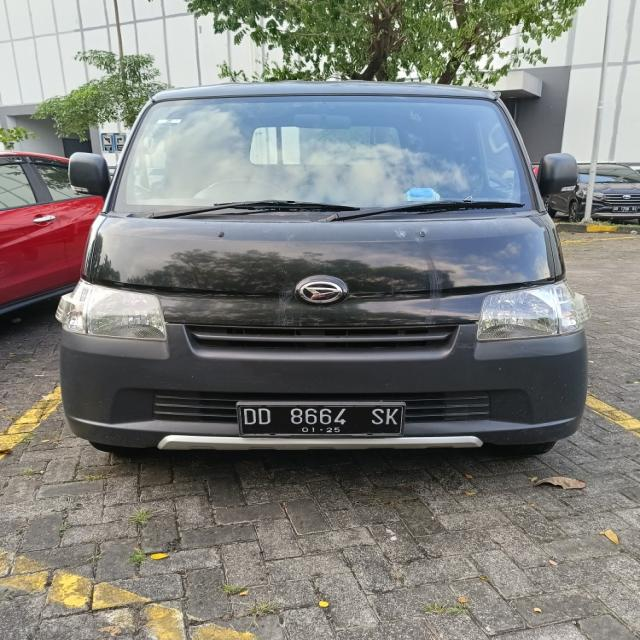plates: (233, 402, 418, 442)
